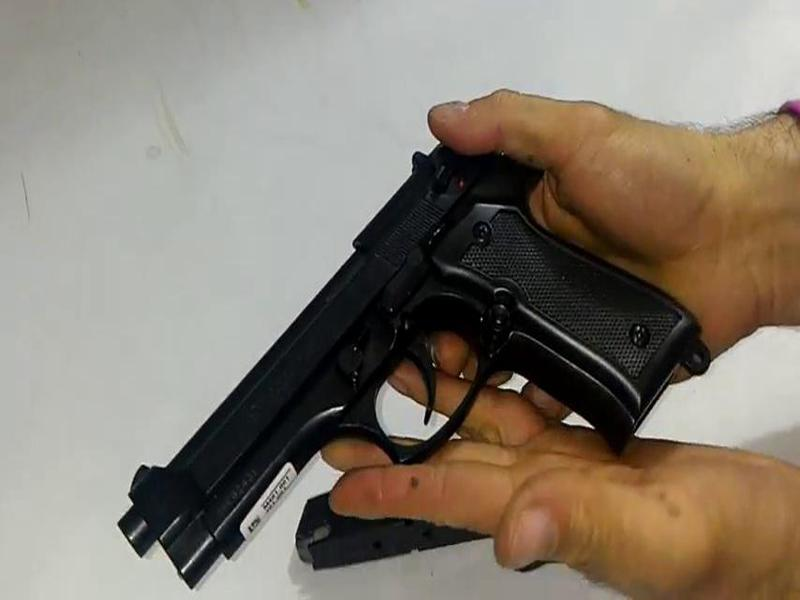Pistola: (112, 103, 732, 600)
